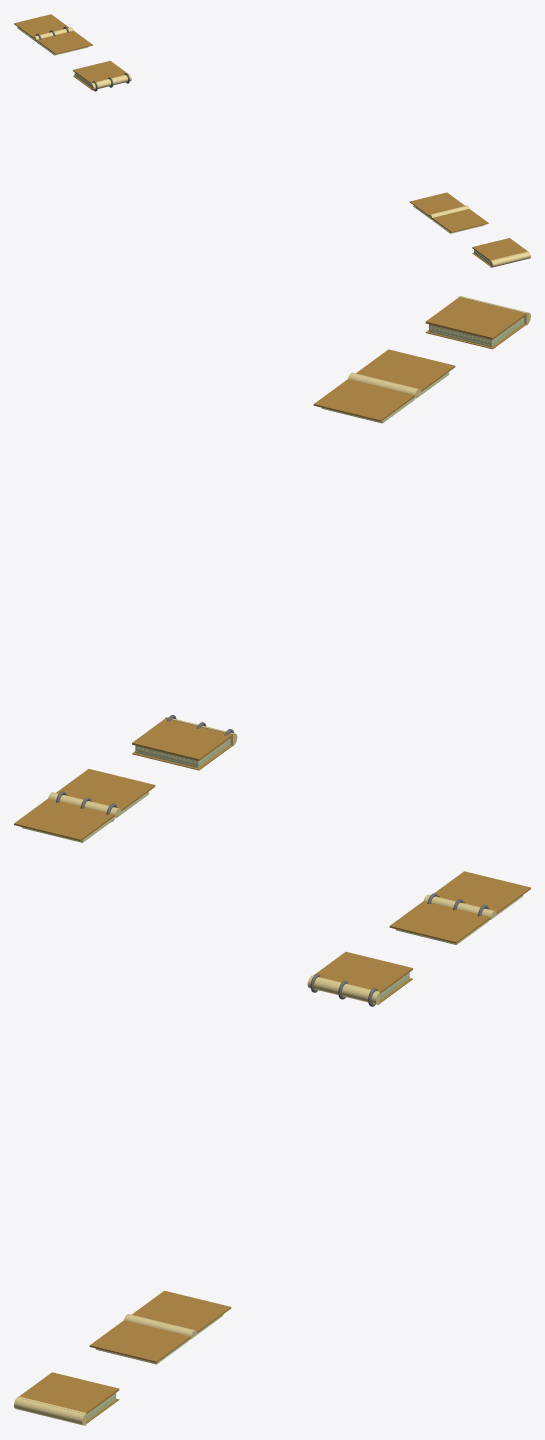
File: book.fbx
3 views of the same model, one above another, from view 1: azimuth 30°, elevation 25°; view 2: azimuth 150°, elevation 25°; view 3: azimuth 330°, elevation 25° (orthographic). The views are drawn at different scales.
Visible parts, largest first — view 1: Cube.003, Cube.066, Cube, Cube.043, Cube.002, Cube.067, Cylinder; view 2: Cube.043, Cube, Cube.002, Cube.067, Cube.003, Cube.066; view 3: Cube.003, Cube.066, Cube, Cube.043, Cube.002, Cube.067, Cylinder, Cylinder.002.
Part boxes in pixels (x1,y1,x2,y2): Cube.003: [432, 209, 488, 232]; Cube.066: [36, 30, 92, 54]; Cube: [472, 238, 527, 266]; Cube.043: [73, 60, 128, 89]; Cube.002: [409, 192, 464, 215]; Cube.067: [14, 14, 68, 37]; Cylinder: [490, 251, 530, 267]; Cube.043: [132, 718, 232, 770]; Cube: [425, 296, 526, 349]; Cube.002: [313, 379, 414, 421]; Cube.067: [14, 798, 114, 841]; Cube.003: [356, 349, 455, 391]; Cube.066: [56, 769, 155, 811]; Cube.003: [89, 1320, 190, 1363]; Cube.066: [389, 901, 490, 943]; Cube: [18, 1372, 119, 1423]; Cube.043: [313, 951, 412, 1003]; Cube.002: [132, 1290, 231, 1332]; Cube.067: [435, 871, 530, 913]; Cylinder: [14, 1396, 86, 1425]; Cylinder.002: [307, 975, 379, 1004].
Size of the model in its own units: 9007 by 644 by 36560.
